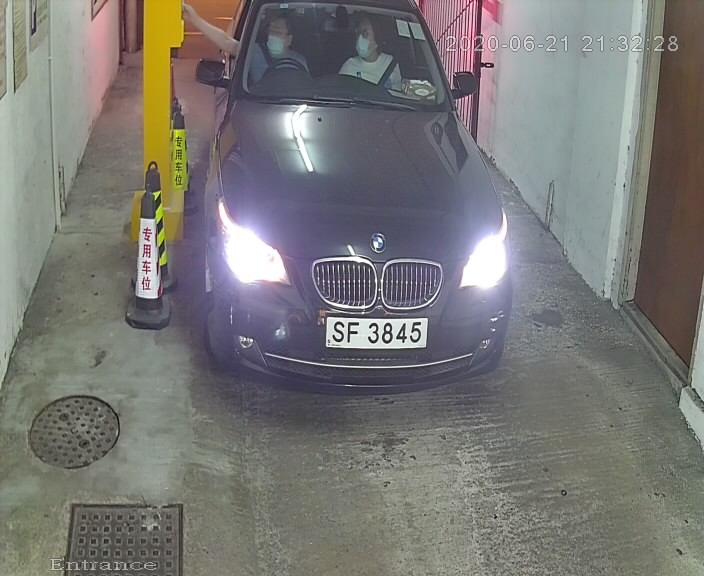privatecar: (169, 1, 540, 418)
